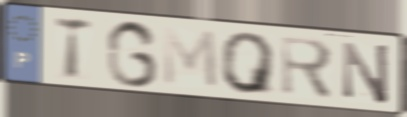G: (104, 18, 161, 90)
M: (160, 24, 222, 92)
N: (340, 39, 392, 107)
Q: (219, 31, 280, 97)
R: (278, 33, 337, 103)
T: (52, 15, 95, 83)
